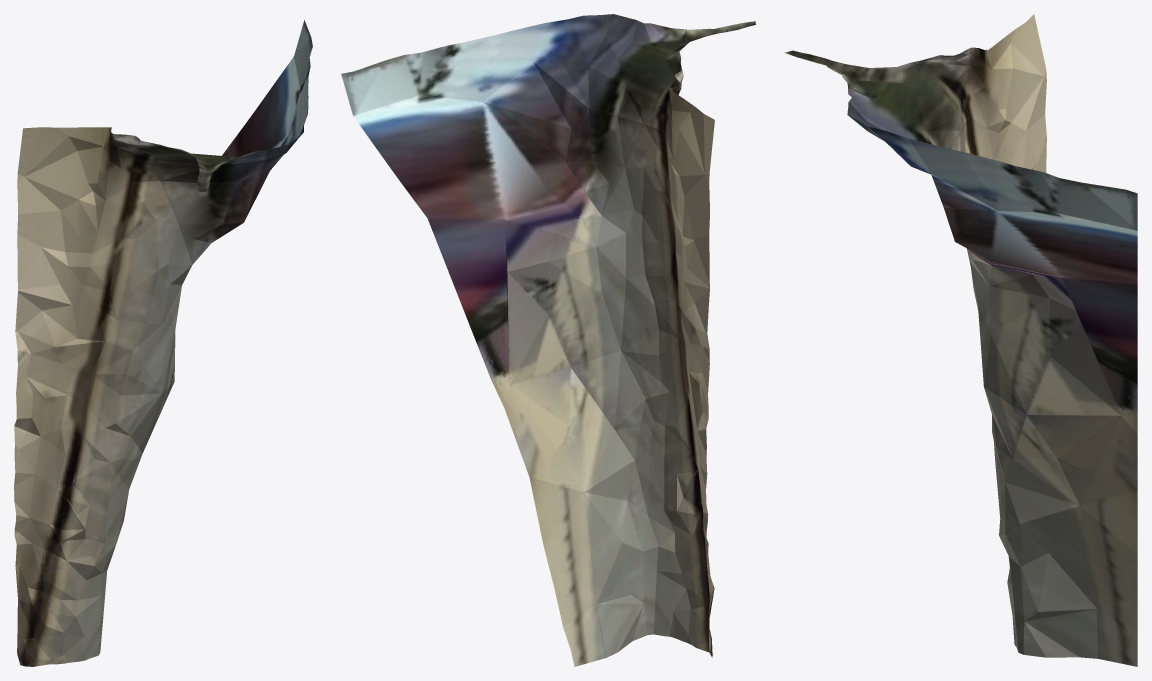
3 views of the same model, side by side, from view 1: azimuth 30°, elevation 25°; view 2: azimuth 150°, elevation 25°; view 3: azimuth 270°, elevation 25° (orthographic). The views are drawn at different scales.
Size of the model in its own units: 2.14 by 3.35 by 1.78.
Materials: 2 (2 with a texture image).
